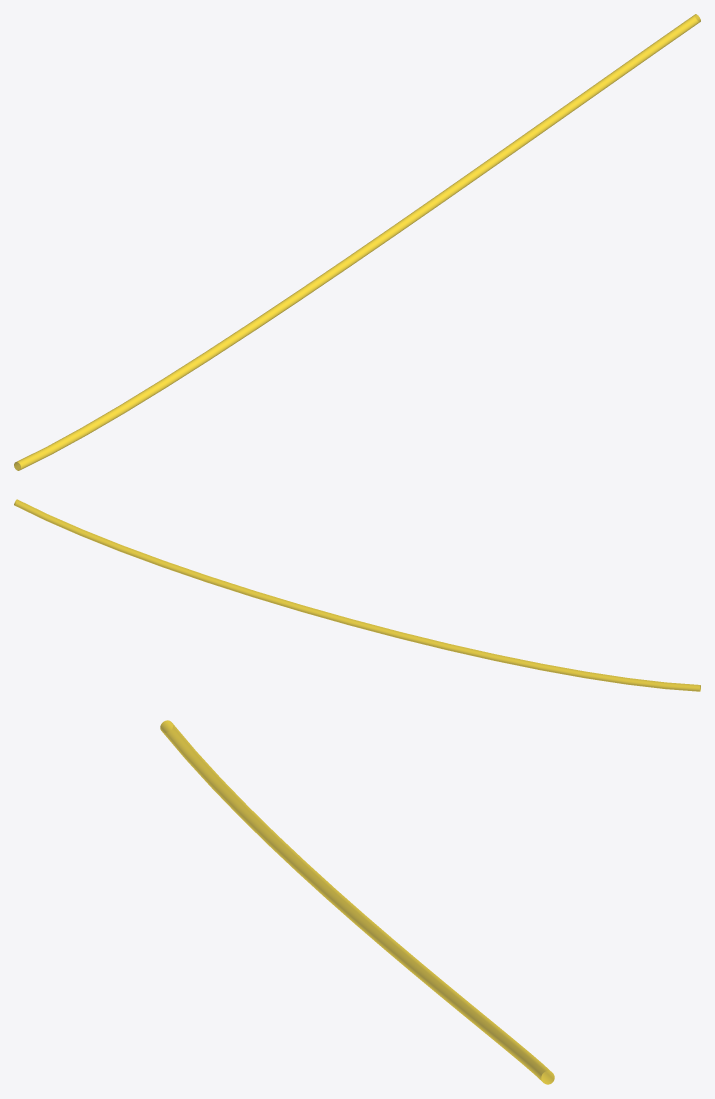
The model's file is Event_100608114_track_69.fbx.
The picture shows the model from 3 angles, top to bottom: view 1: azimuth 30°, elevation 25°; view 2: azimuth 150°, elevation 25°; view 3: azimuth 270°, elevation 25°; orthographic projection. The views are drawn at different scales.
Parts seen in each view (by area): view 1: Model; view 2: Model; view 3: Model.
Boxes of the visible parts, x1,y1,x2,y2 form: Model: (14, 14, 700, 470); Model: (14, 499, 700, 691); Model: (160, 720, 554, 1084).
Size of the model in its own units: 4.01 by 0.765 by 1.16.
